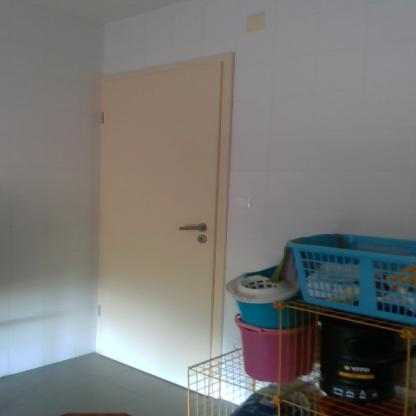door: (100, 81, 216, 376)
hinged: (101, 110, 105, 124), (98, 305, 100, 317)
lever: (175, 224, 206, 233)
